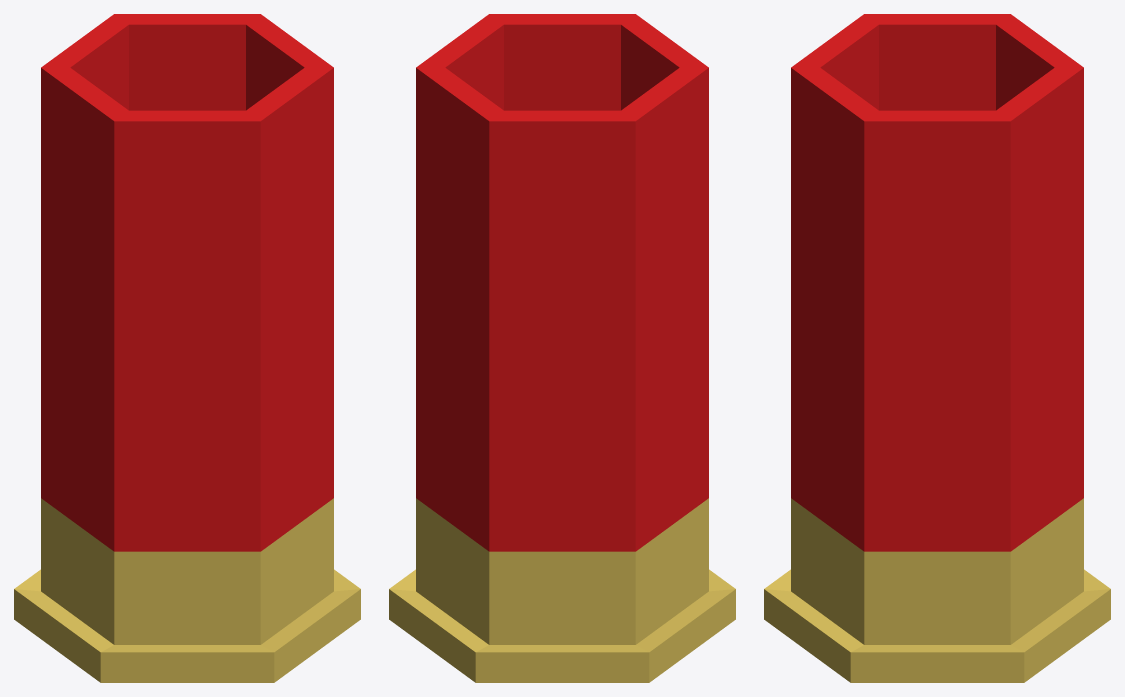
Rendered from Shell.fbx.
3 renders of one model, left to right at view 1: azimuth 30°, elevation 25°; view 2: azimuth 150°, elevation 25°; view 3: azimuth 270°, elevation 25°, orthographic.
Visible parts, largest first — view 1: Circle; view 2: Circle; view 3: Circle.
Part boxes in pixels (bbox=[...]): Circle: bbox=[14, 14, 360, 682]; Circle: bbox=[389, 14, 735, 682]; Circle: bbox=[764, 14, 1110, 682].
Size of the model in its own units: 141 by 285 by 162.
